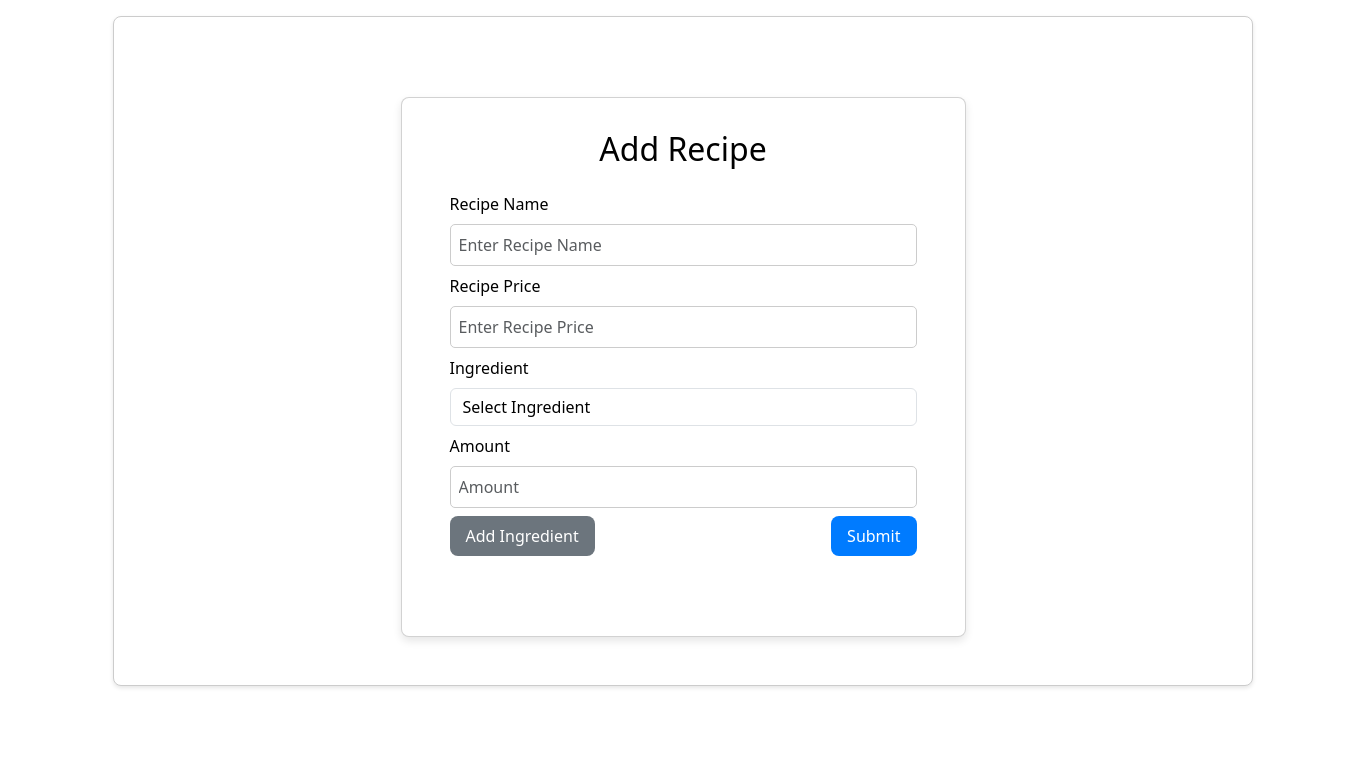
RecipeComponent › validates form inputs and displays errors
# Click on the Submit button without filling any fields
What coordinates should you click on to do the following:
click the button "Submit"
I would click on:
 (874, 536)
Its box is [831,516,916,556].
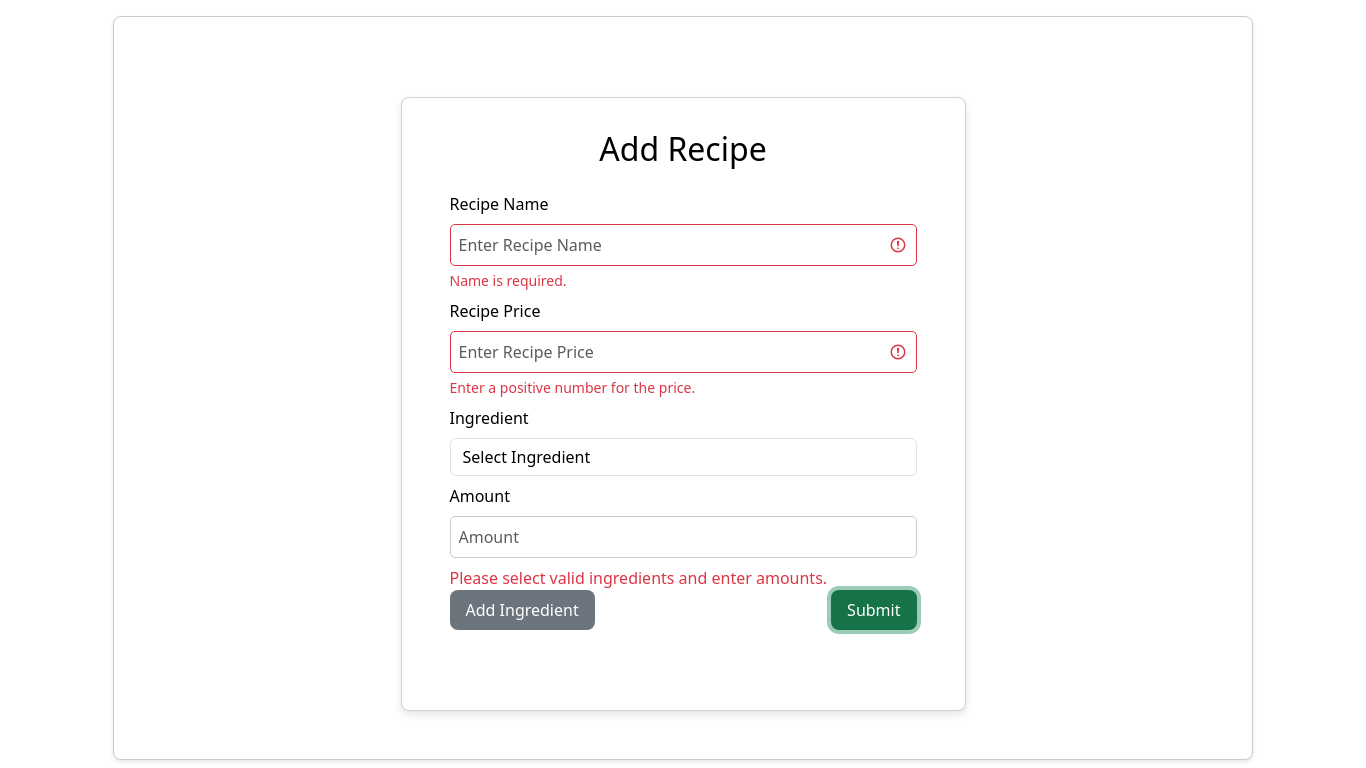
Expected: the text "Name is required." is shown, [450,271,567,290]
Expected: the text "Enter a positive number for the price." is shown, [450,378,695,397]
Expected: the text "Please select valid ingredients and enter amounts." is shown, [450,567,827,589]
